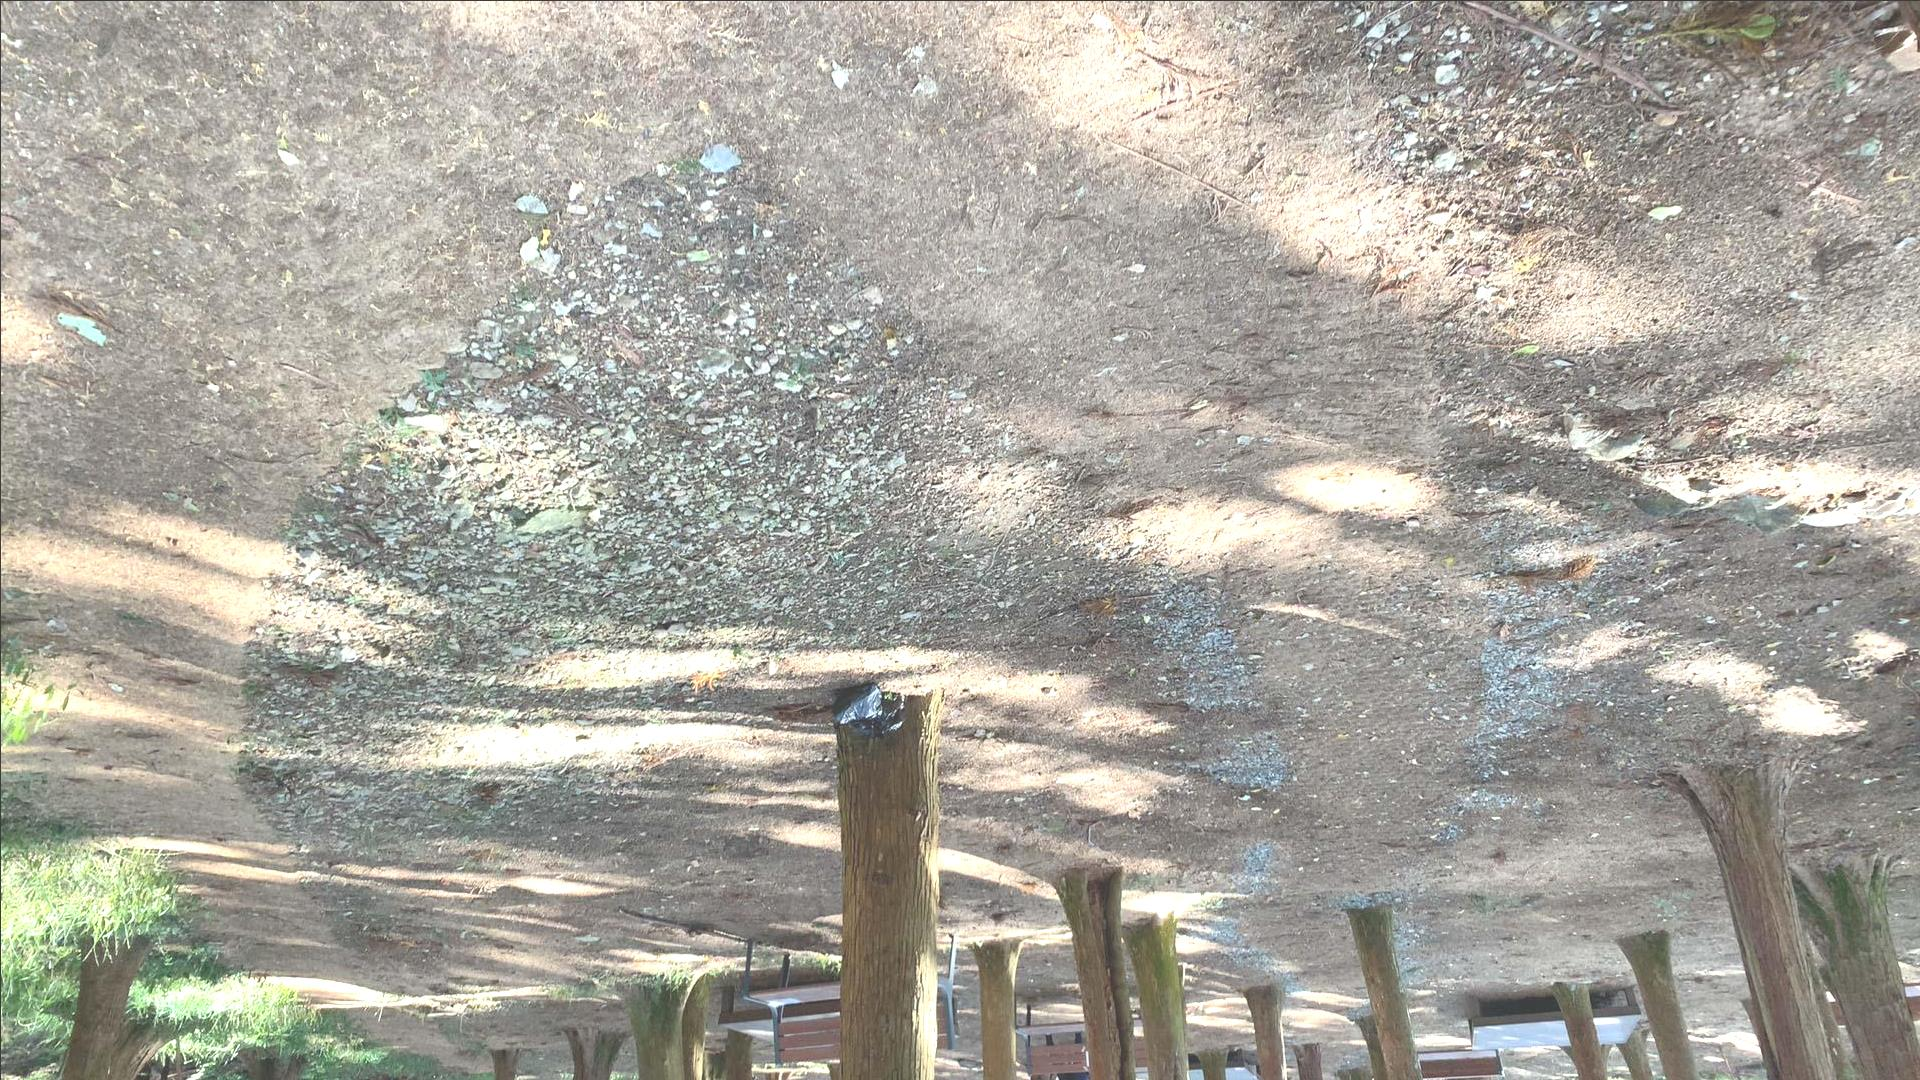black_bag: (843, 694, 911, 742), (825, 680, 884, 729)
